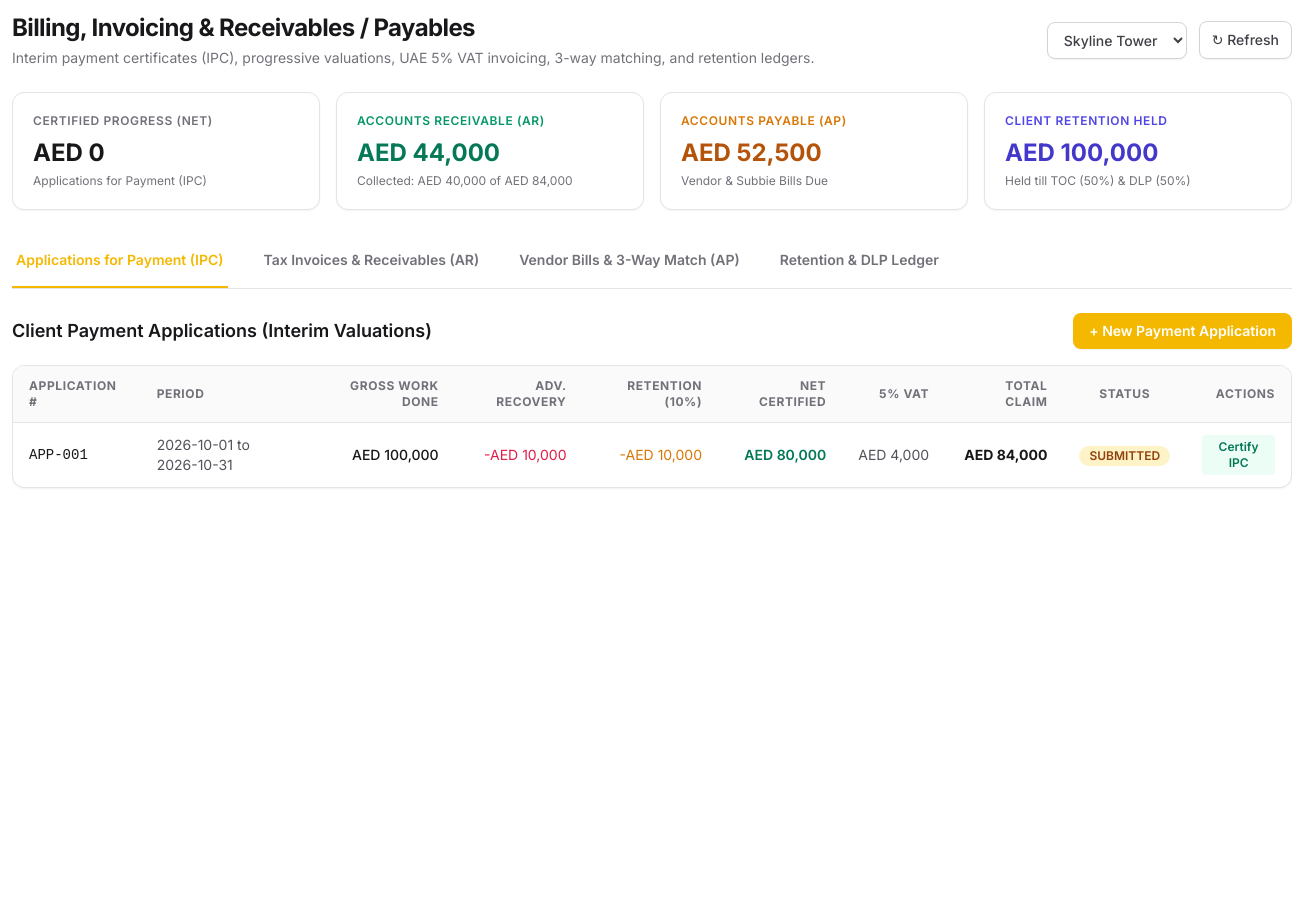
Scenario: M22: Billing, Invoicing, Receivables & Payables Page › navigates to Tax Invoices & AR tab and displays invoice register and aging
Click the button "Tax Invoices & Receivables (AR)": (371, 261) top-left (260, 234), bottom-right (483, 288)
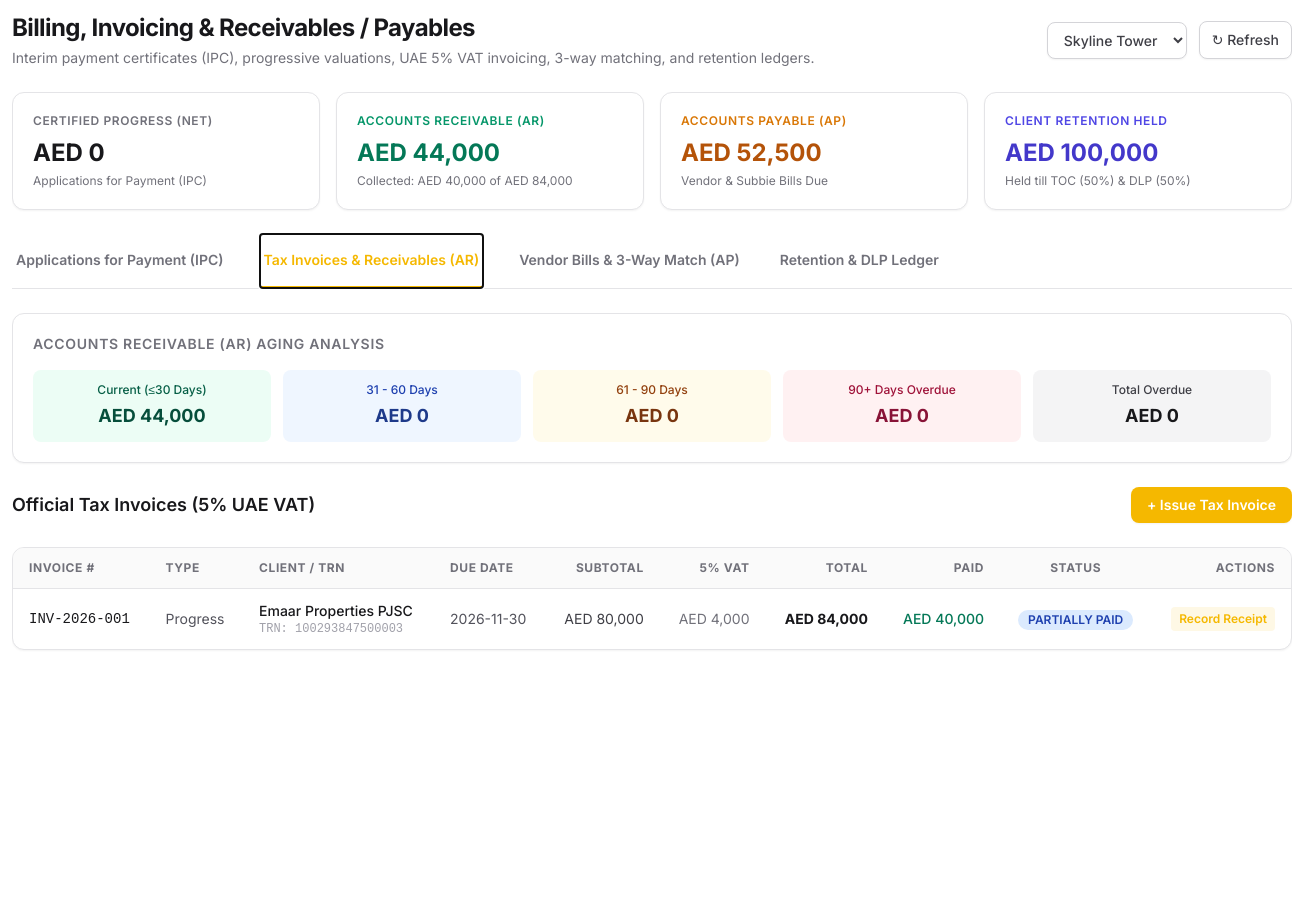
Now the heading "Official Tax Invoices (5% UAE VAT)" is shown, box top-left (12, 491), bottom-right (315, 519)
Now the heading "Accounts Receivable (AR) Aging Analysis" is shown, box top-left (33, 335), bottom-right (385, 352)
Now the text "INV-2026-001" is shown, box top-left (13, 588), bottom-right (150, 649)
